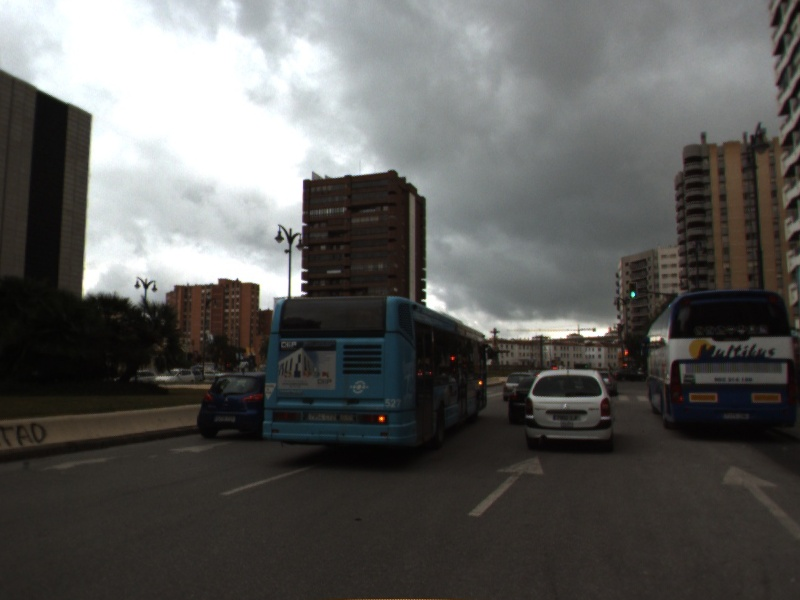STRAIGHT: (718, 462, 800, 541), (466, 453, 546, 519)
